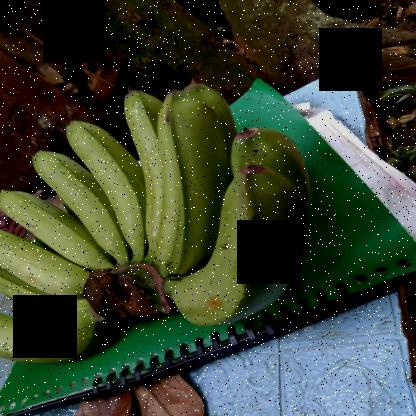freshunripe: (152, 86, 232, 268), (54, 114, 153, 253), (26, 146, 129, 259), (116, 84, 182, 260), (1, 187, 116, 272), (1, 305, 107, 370), (1, 224, 97, 287)
unripe: (163, 162, 315, 334), (224, 124, 314, 179)
